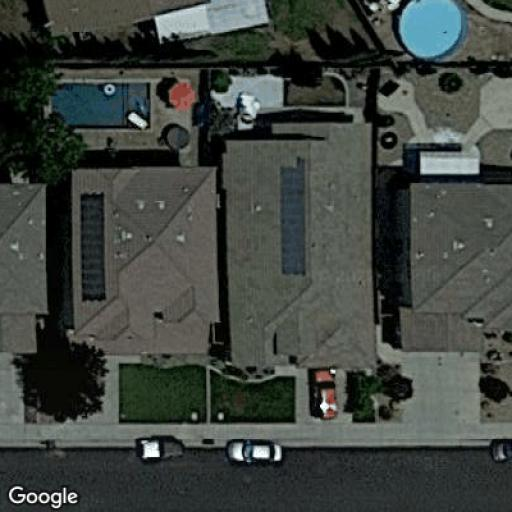solar-panel: (280, 156, 307, 276), (80, 190, 108, 303)
